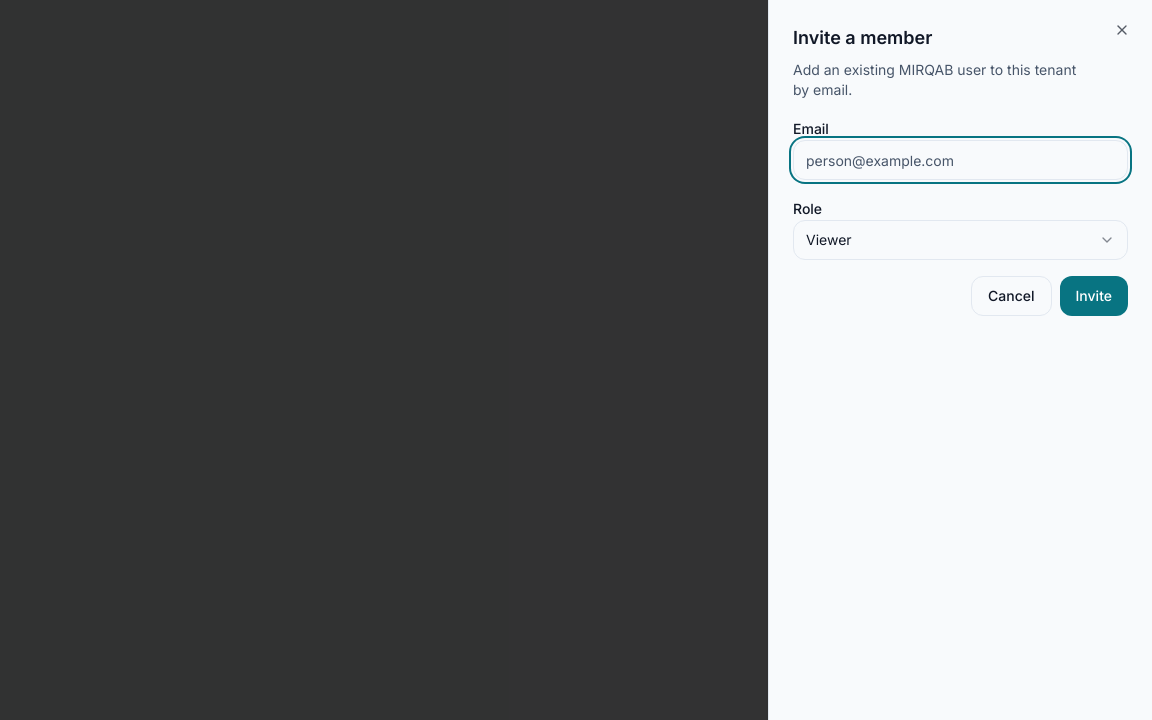
Test: InviteMemberSheet — NEXT_PUBLIC_FEATURE_INVITE_BY_EMAIL on › editing the email after the offer clears it back to a fresh lookup
Type "new@x.com" into the field labelled "Email" at {"x": 960, "y": 160}, box [793,140,1128,180]
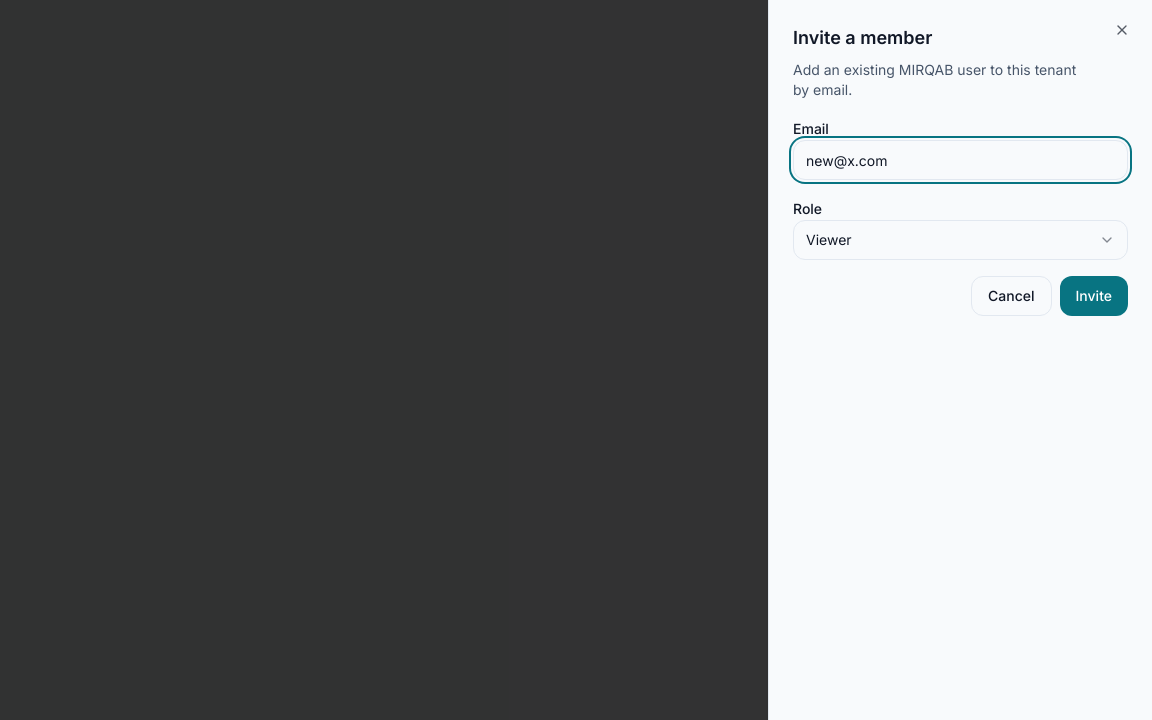
Click the button "Invite" at {"x": 1094, "y": 296}, box [1060,276,1128,316]
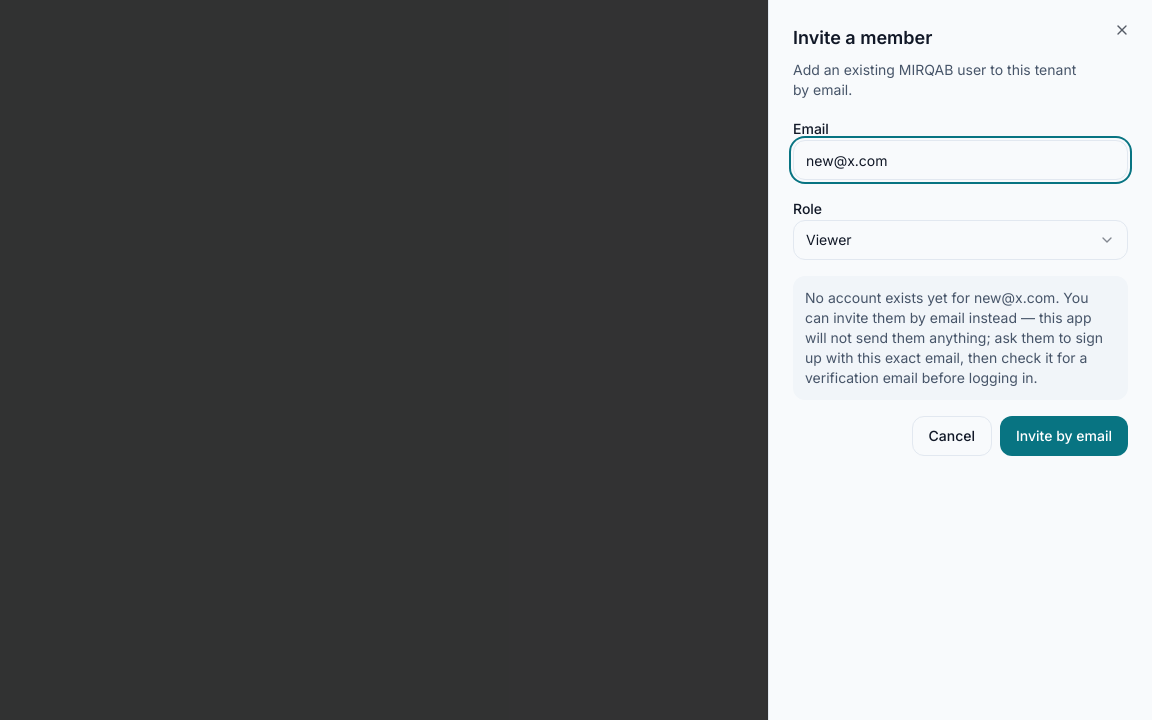
Result: the button "Invite by email" is shown at [1000,416,1128,456]
Replace the text in the field labelled "Email" with "new2@x.com" at {"x": 960, "y": 160}, box [793,140,1128,180]
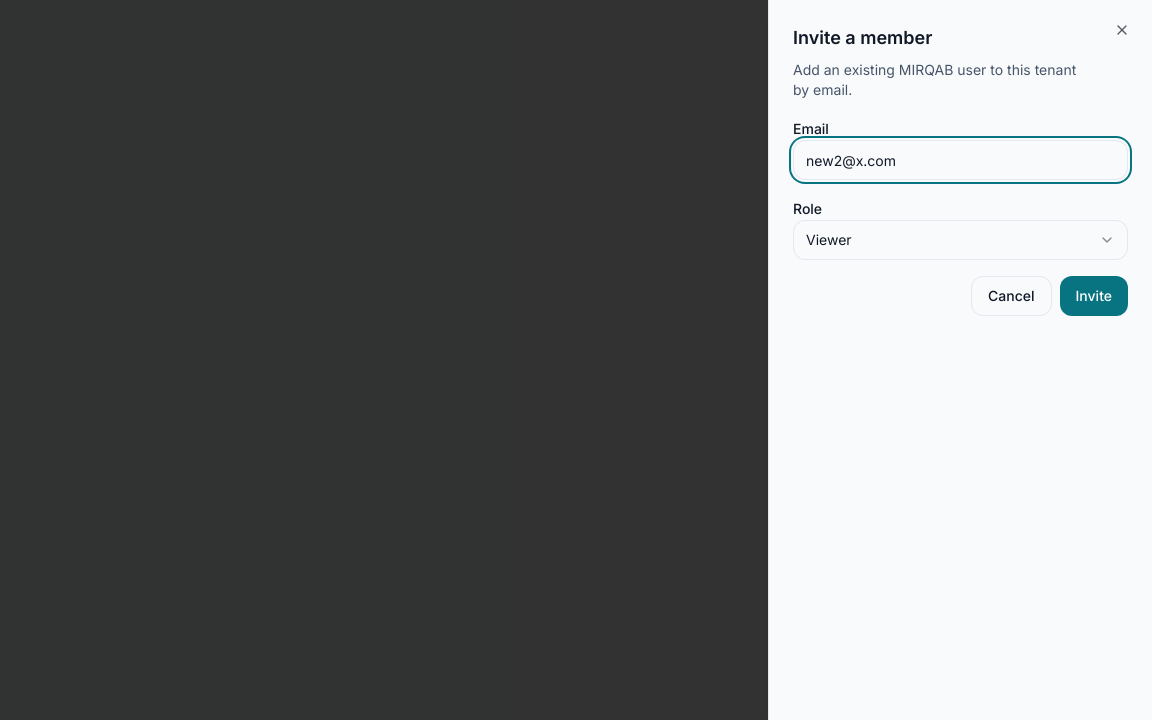
Expected: the button "Invite" is shown, [1060,276,1128,316]
Result: the button "Invite by email" is gone
